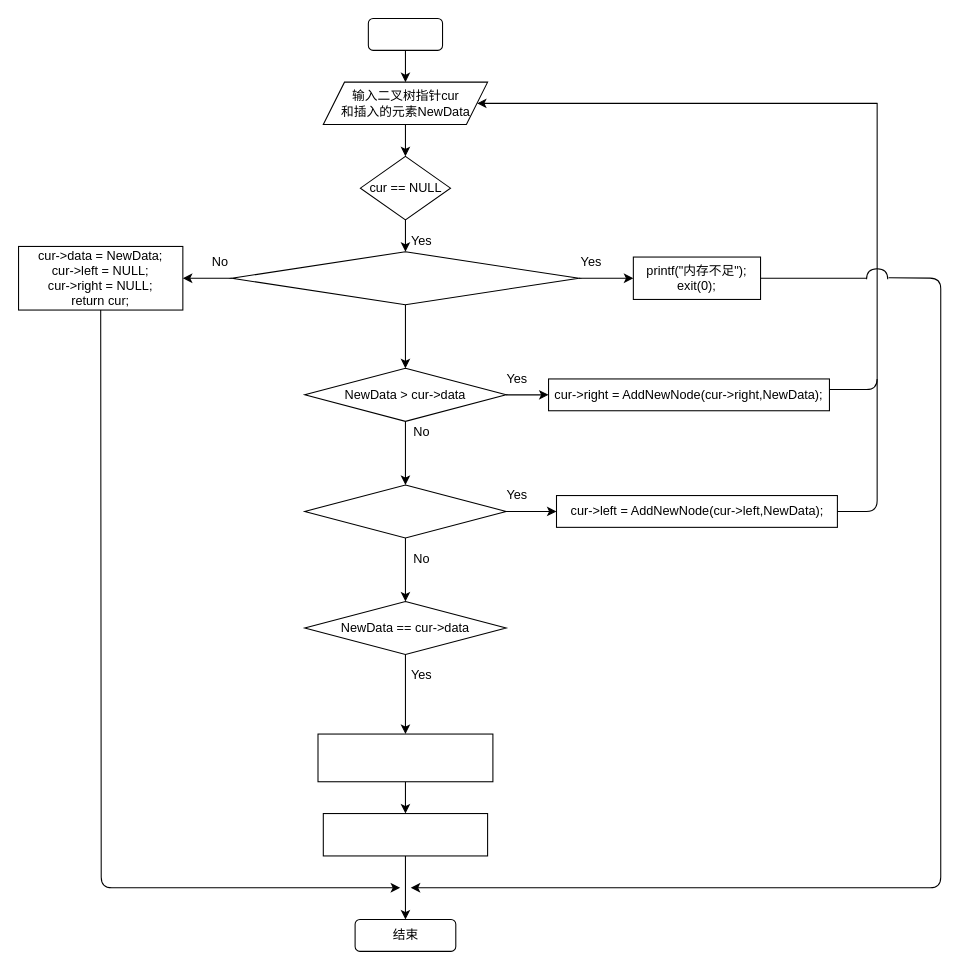
Image size: 968x970. Some labels were removed from this diagram. Each missing label, with the centre of its shape:
(cur = (BSTree *)malloc(sizeof(BSTree))) == NULL: (405,278)
NewData < cur->data: (405,511)
printf("不允许插入重复值\n");: (405,834)
printf("不允许插入重复值\n")； exit(0);: (405,757)
开始: (405,33)
